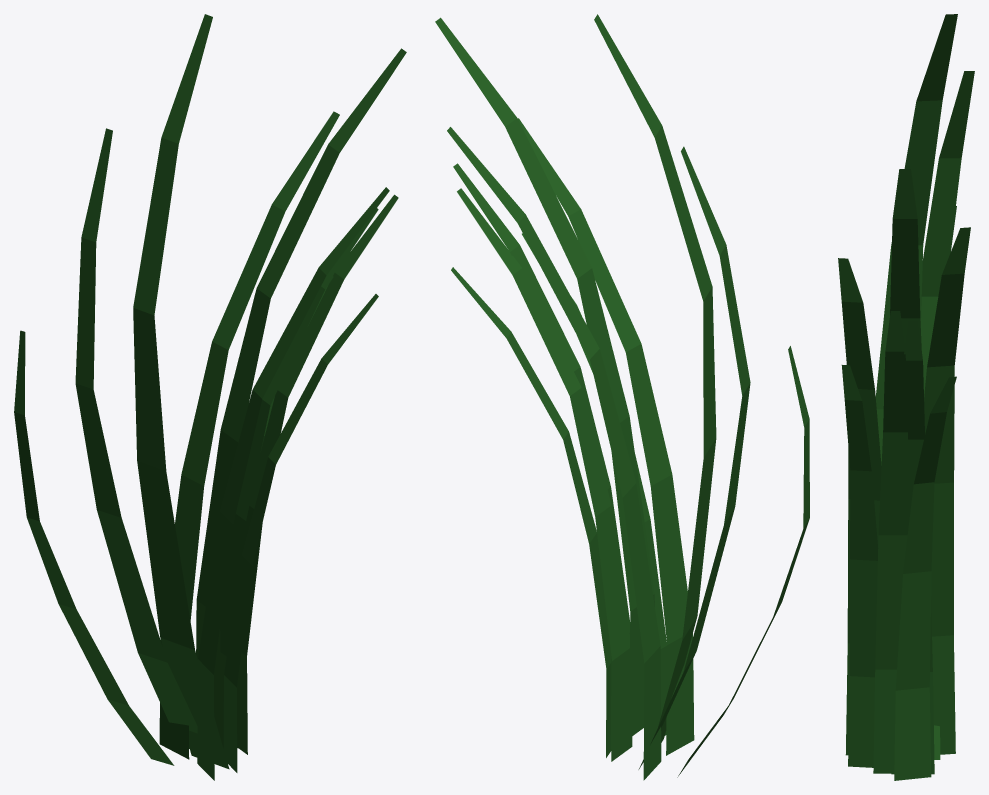
Rendered from Swamp_Bush_Small.fbx.
3 renders of one model, left to right at view 1: azimuth 30°, elevation 25°; view 2: azimuth 150°, elevation 25°; view 3: azimuth 270°, elevation 25°, orthographic. The views are drawn at different scales.
Parts seen in each view (by area): view 1: Plane.009; view 2: Plane.009; view 3: Plane.009.
Part boxes in pixels (<box>): Plane.009: <box>14,14,406,780</box>; Plane.009: <box>435,14,809,780</box>; Plane.009: <box>838,14,974,780</box>.
Bounding box in the file's own units: 113 × 209 × 33.89.
